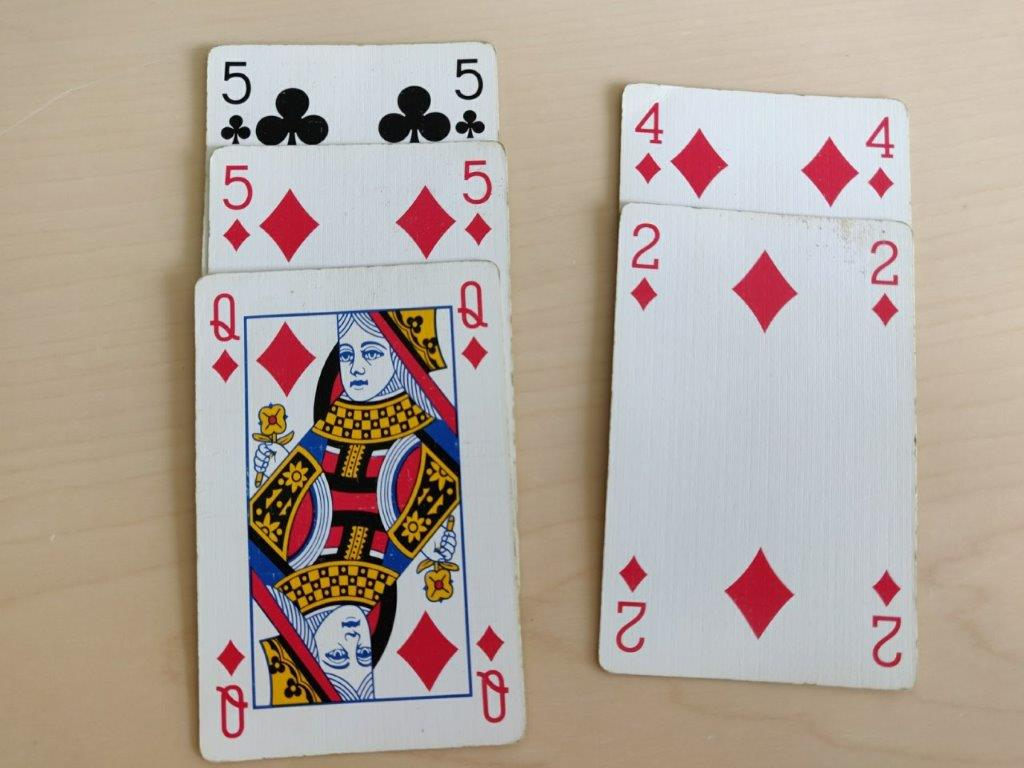2D: (862, 235, 908, 331), (624, 217, 665, 314)
4D: (859, 110, 902, 203), (631, 96, 668, 187)
5C: (446, 53, 490, 141), (216, 56, 255, 147)
5D: (456, 153, 498, 249), (218, 160, 257, 253)
QD: (454, 272, 497, 374), (204, 290, 246, 383)
